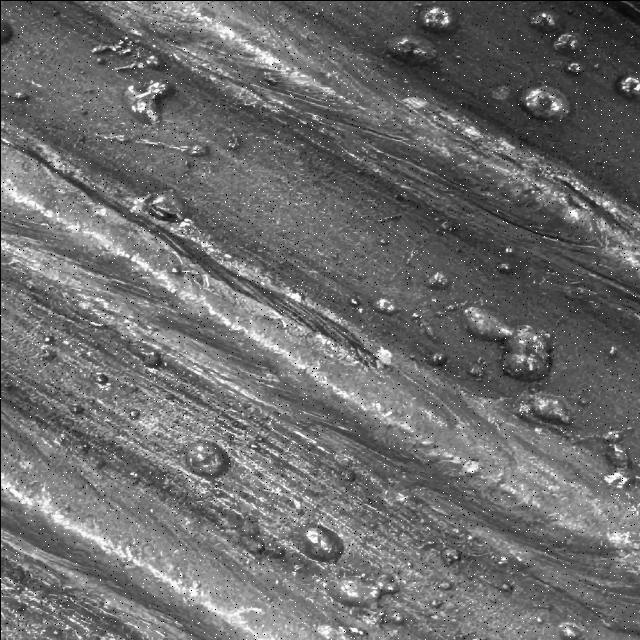Spatters: (463, 306, 550, 380), (90, 36, 160, 71), (327, 576, 397, 606), (125, 80, 167, 125), (183, 440, 228, 478), (517, 392, 570, 424), (520, 84, 568, 118), (328, 576, 378, 605), (302, 525, 342, 561), (415, 1, 458, 34), (143, 189, 182, 221), (387, 35, 435, 61), (133, 138, 207, 154), (553, 30, 585, 55), (530, 9, 561, 34), (617, 75, 640, 95), (608, 442, 626, 466), (467, 356, 485, 380), (140, 351, 163, 369), (440, 546, 460, 566), (427, 271, 448, 289), (375, 296, 395, 311), (558, 621, 578, 636), (428, 351, 447, 366), (227, 132, 240, 149), (433, 580, 453, 590), (565, 61, 582, 72), (602, 429, 620, 439), (497, 581, 513, 592), (495, 261, 510, 272), (68, 404, 83, 415), (95, 372, 108, 384), (438, 220, 452, 231), (128, 409, 140, 420), (102, 134, 125, 139), (348, 296, 358, 307), (43, 335, 55, 344), (430, 599, 442, 608), (378, 238, 388, 245), (503, 246, 511, 251)
